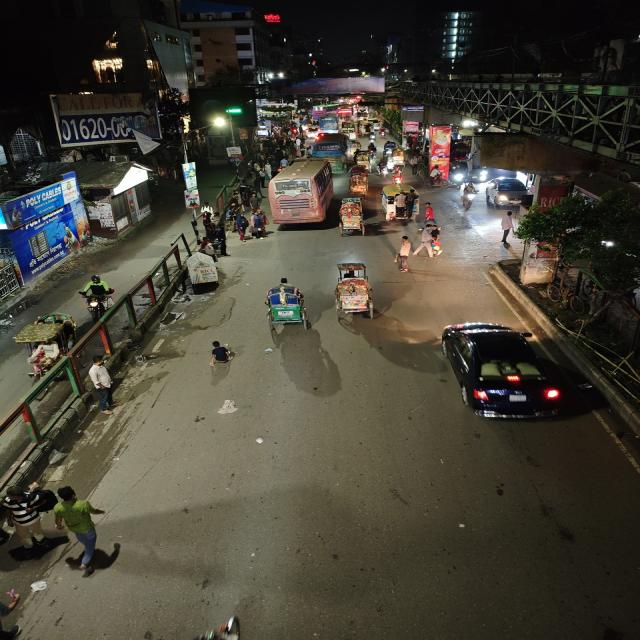bus: (268, 159, 336, 229), (309, 132, 352, 160), (318, 116, 339, 131)
car: (432, 317, 568, 426), (484, 174, 534, 210)
human_hauler: (358, 121, 375, 138)
motorcycle: (77, 273, 116, 316), (418, 225, 448, 257), (458, 180, 479, 212), (419, 201, 440, 227), (383, 194, 399, 222), (389, 164, 407, 188), (377, 160, 389, 179), (378, 126, 388, 138)
pedestrian: (42, 486, 106, 568), (202, 338, 239, 386), (389, 233, 416, 274), (496, 210, 520, 246), (250, 210, 270, 240), (233, 212, 249, 240)
rickshaw: (11, 310, 77, 374), (328, 260, 382, 323), (256, 276, 315, 332), (182, 262, 230, 302), (336, 195, 370, 237), (346, 165, 372, 193), (447, 159, 469, 187), (382, 140, 397, 158), (356, 153, 372, 166)
